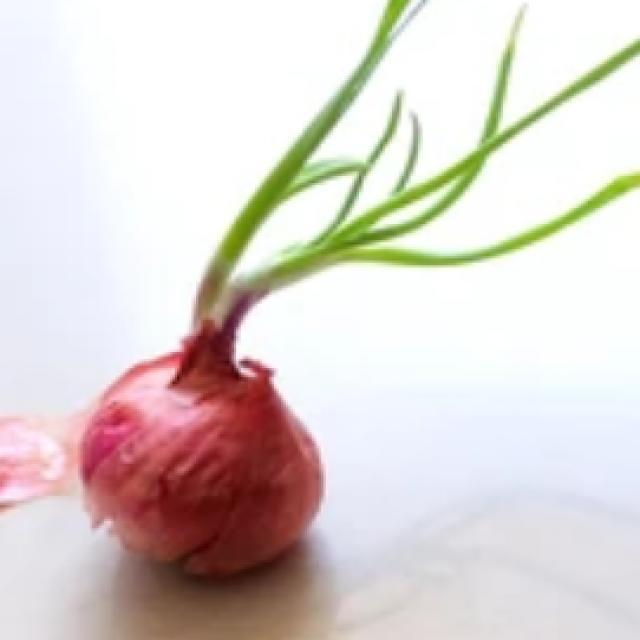sprouting: (189, 55, 255, 352)
